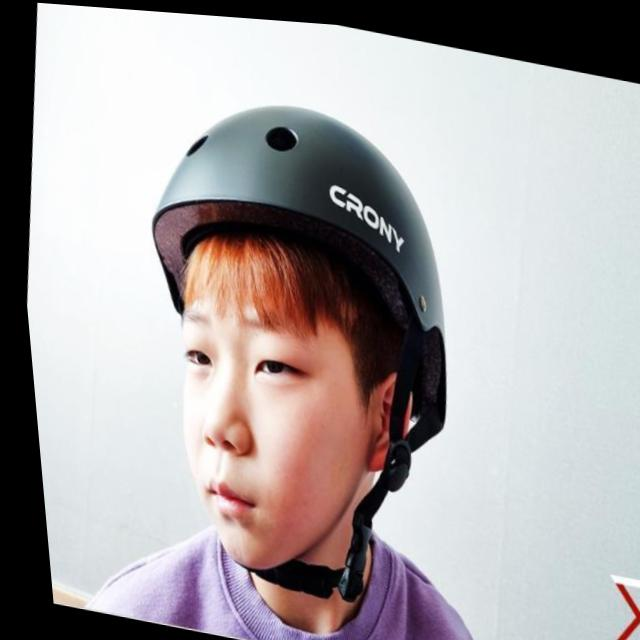helmet: (92, 71, 491, 619)
